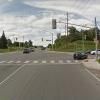Crosswalk: (1, 53, 71, 75)
